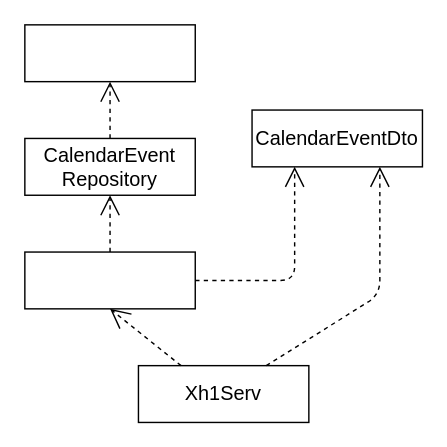
The diagram is 447 pixels wide and 447 high, and some of its shapes have lost their labels. The centre of each missing label's shape, as x and y in pixels:
"CalendarEvent" goes at point 109,52.
"CalendarEvent Service" goes at point 109,280.
